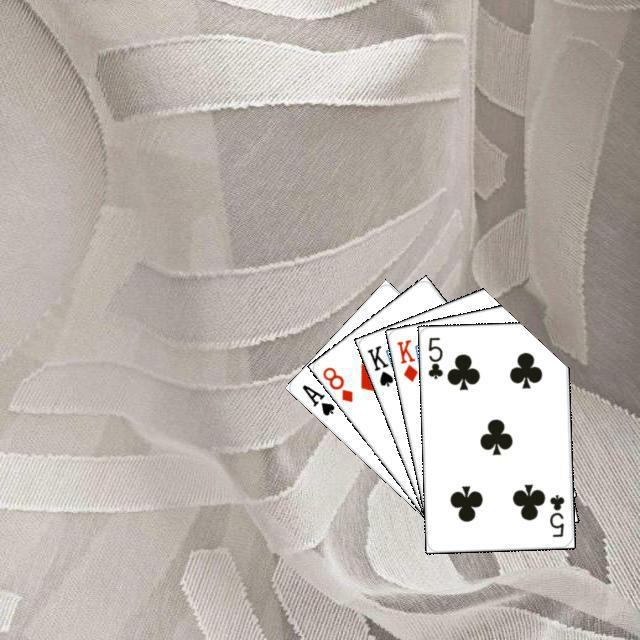5c: (423, 332, 445, 380), (545, 490, 566, 539)
8d: (317, 362, 355, 404)
As: (297, 379, 337, 417)
Kd: (392, 334, 419, 383)
Ks: (362, 340, 395, 388)
